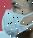with_mask: (1, 1, 33, 38)
